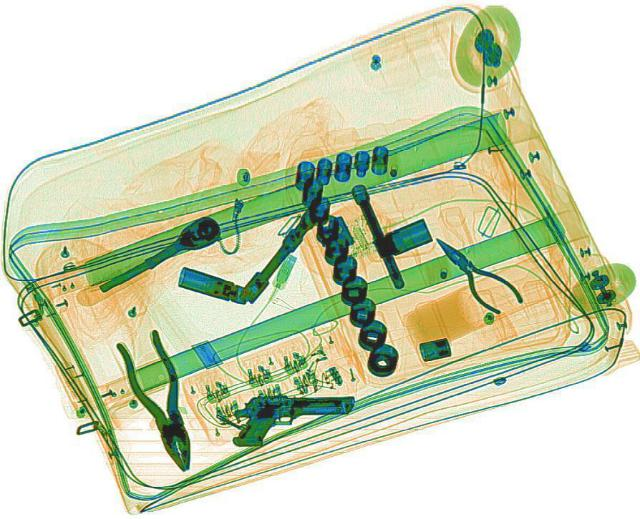Gun: (231, 394, 357, 447)
Pliers: (109, 327, 213, 473), (417, 226, 528, 317)
